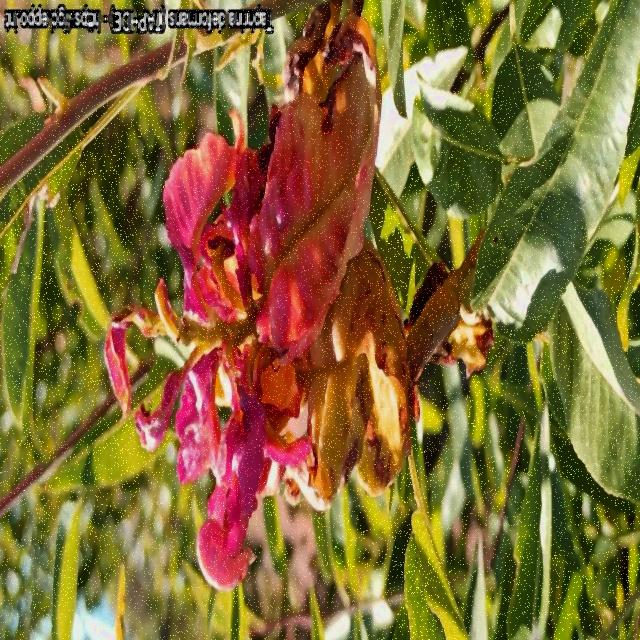leaf_curl: (123, 40, 434, 619)
